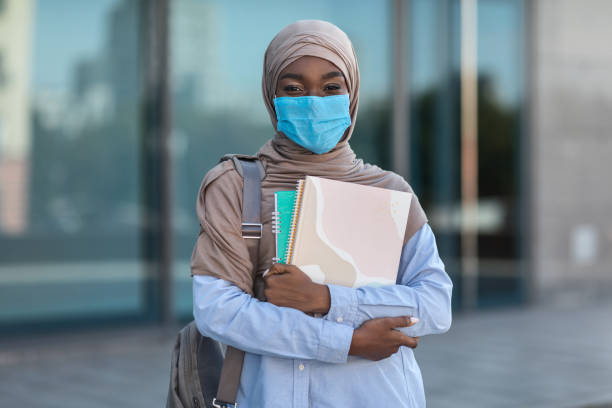mask: (271, 94, 354, 157)
person: (169, 16, 461, 405)
